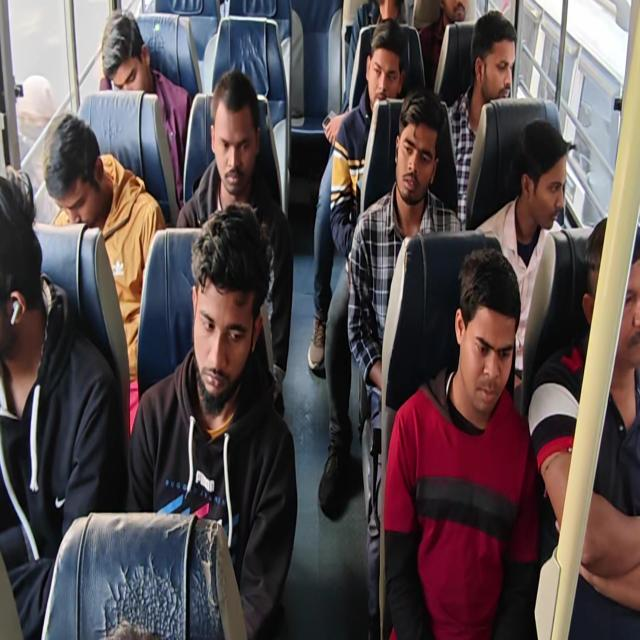person: (0, 186, 60, 397), (185, 244, 258, 413), (580, 221, 640, 385), (444, 268, 509, 409), (48, 120, 110, 227), (509, 136, 568, 234), (207, 83, 258, 189), (470, 25, 518, 121), (393, 111, 439, 208), (100, 23, 148, 96), (362, 36, 401, 112), (436, 0, 471, 37), (370, 0, 406, 19)
